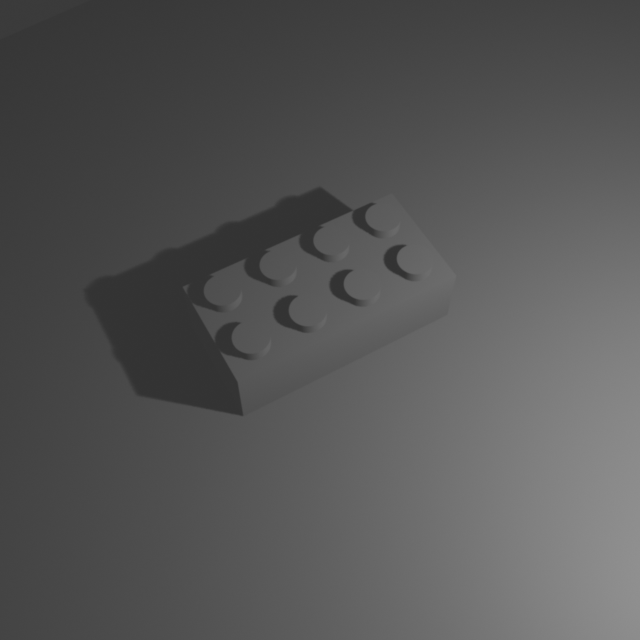lego_2x4: (181, 186, 458, 416)
